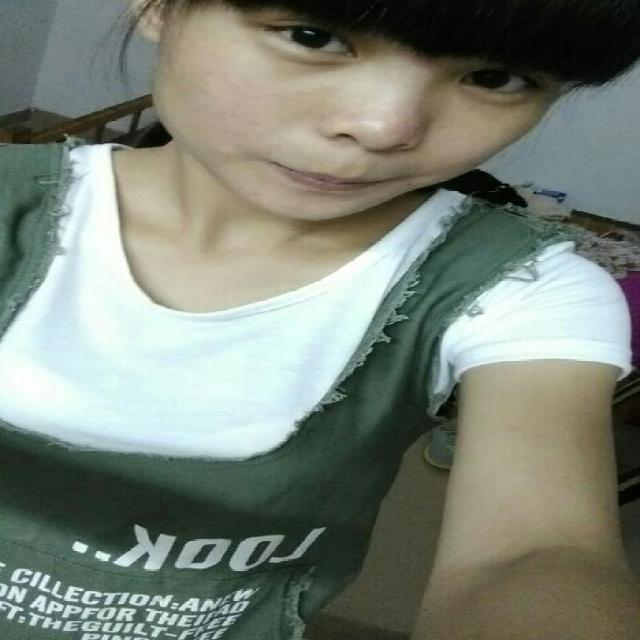short sleeve top: (0, 147, 630, 552)
vest dress: (3, 143, 570, 639)
